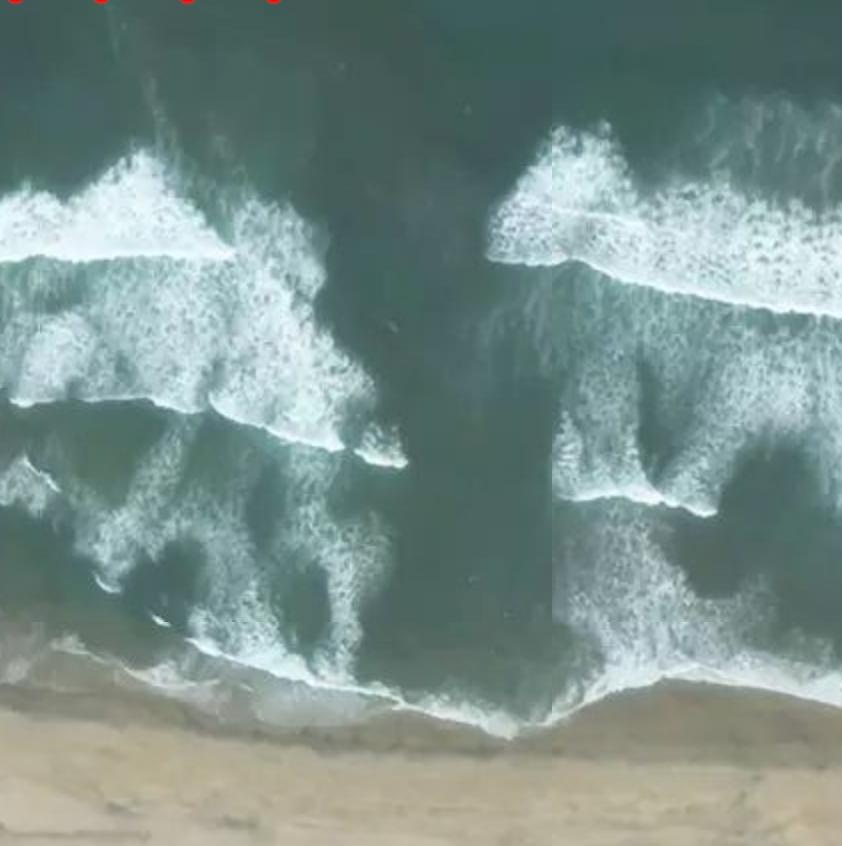rip_current: (222, 120, 661, 732)
